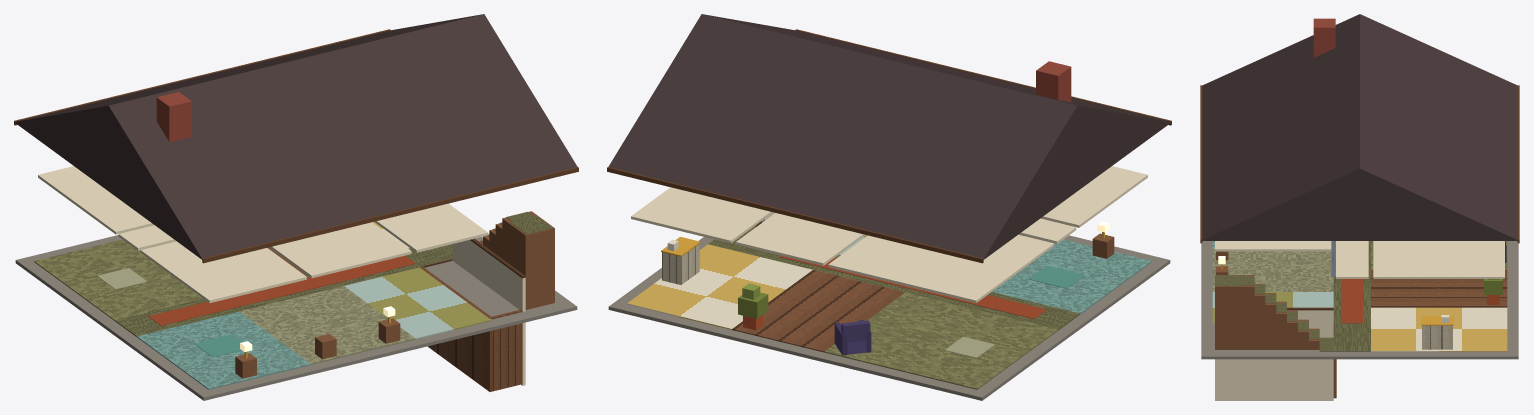
File: structure.glb
The picture shows the model from 3 angles, left to right: view 1: azimuth 30°, elevation 25°; view 2: azimuth 150°, elevation 25°; view 3: azimuth 270°, elevation 25°; orthographic projection. The views are drawn at different scales.
Parts seen in each view (by area): view 1: Part1, Box1, Box14, Box2, Box10, Box11, Box12, Box15, Box13, Box3, Box77, Box36 (+10 smaller); view 2: Part1, Box2, Box3, Box1, Box6, Box4, Box10, Box7, Box5, Box8, Box11, Box19 (+9 smaller); view 3: Part1, Box38, Box1, Box6, Box7, Box14, Box4, Box8, Box36, Box13, Box9, Box77 (+12 smaller).
Boxes of the visible parts, x1,y1,x2,y2 form: Part1: (15,14,577,259); Box1: (15,235,577,400); Box14: (239,286,415,364); Box2: (34,239,202,320); Box10: (137,311,310,389); Box11: (140,241,306,302); Box12: (344,267,491,339); Box15: (269,222,411,278); Box13: (374,203,488,252); Box3: (38,166,154,234); Box77: (148,255,415,325); Box36: (508,216,554,309); Part1: (608,14,1170,259); Box2: (824,292,1057,389); Box3: (828,234,1054,302); Box1: (608,235,1170,400); Box6: (627,244,812,329); Box4: (732,270,904,352); Box10: (992,239,1151,313); Box7: (631,187,772,243); Box5: (736,213,865,265); Box8: (708,232,1080,330); Box11: (1040,166,1147,227); Box19: (607,167,983,263); Part1: (1201,14,1518,240); Box38: (1215,310,1333,400); Box1: (1201,241,1518,359); Box6: (1371,307,1507,351); Box7: (1373,241,1504,278); Box14: (1212,248,1333,291); Box4: (1371,269,1507,307); Box8: (1333,241,1370,351); Box36: (1215,275,1243,349); Box13: (1215,241,1331,251); Box9: (1336,241,1368,278); Box77: (1341,279,1362,323).
Size of the model in its own units: 11.8 by 9.25 by 10.3.
33 materials, 9 textured.
